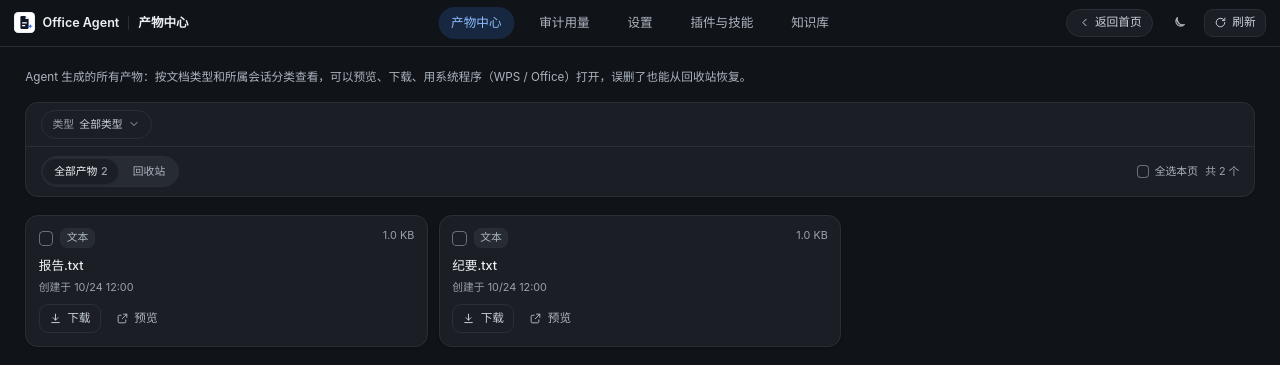
Scenario: ArtifactsPage 多选删除 › 切换类型筛选清空已选项
Click the checkbox named "选择 报告.txt": (46, 238) [39, 231, 53, 246]
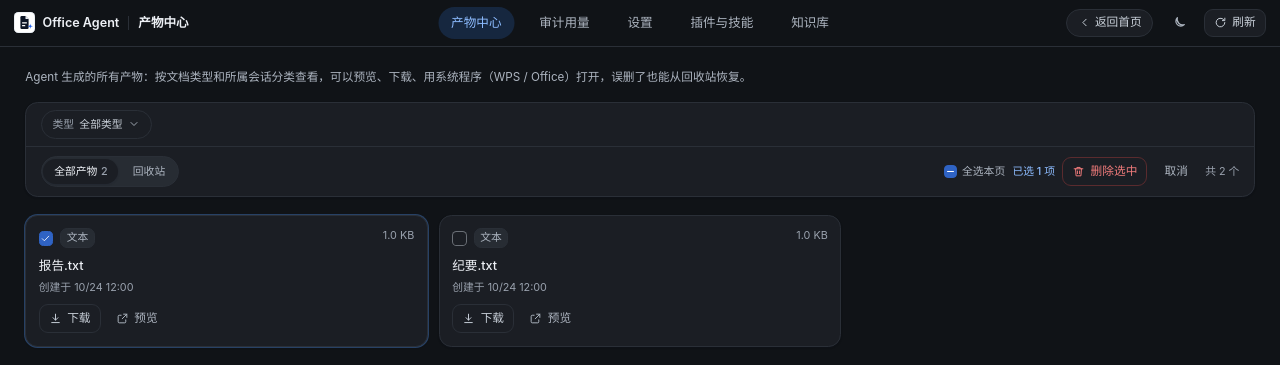
Expected: the text "已选 1 项" is shown, [1012, 164, 1055, 179]
Click the button "类型 全部类型": (96, 124) [41, 110, 152, 139]
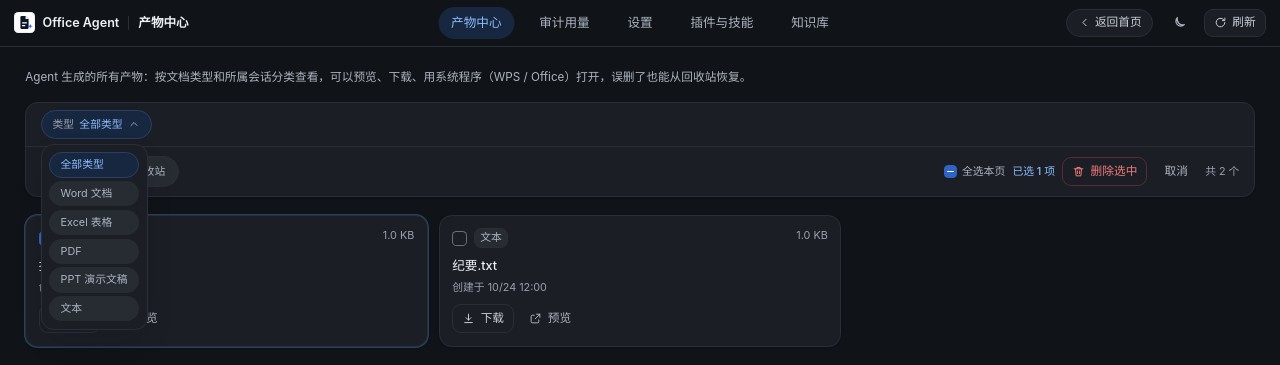
Click the button "PDF": (94, 251) [49, 239, 139, 264]
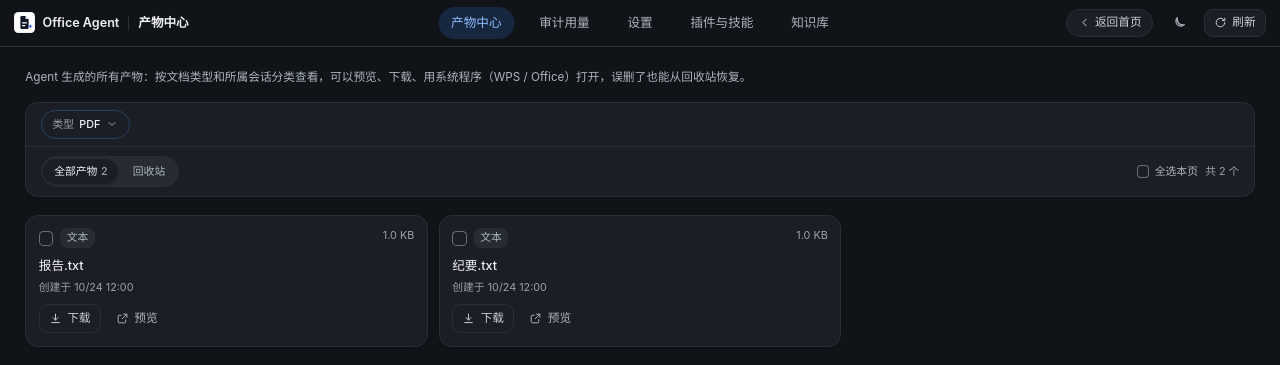
Expected: the text "已选" is gone
